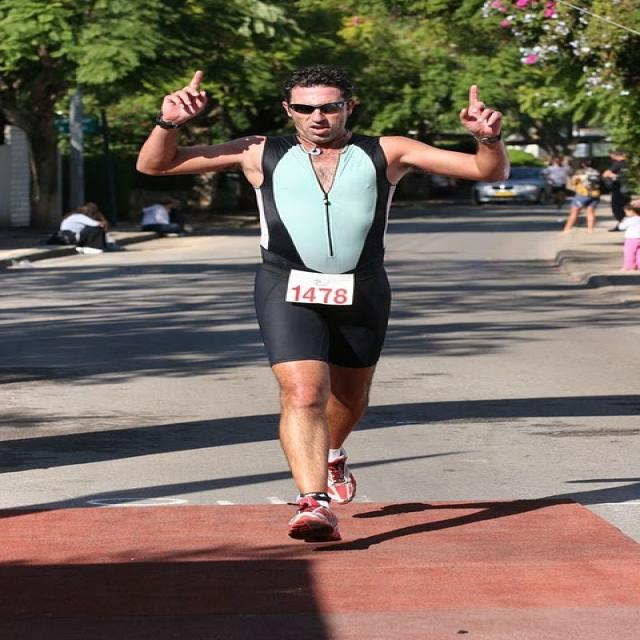Bib: (293, 286, 357, 308)
